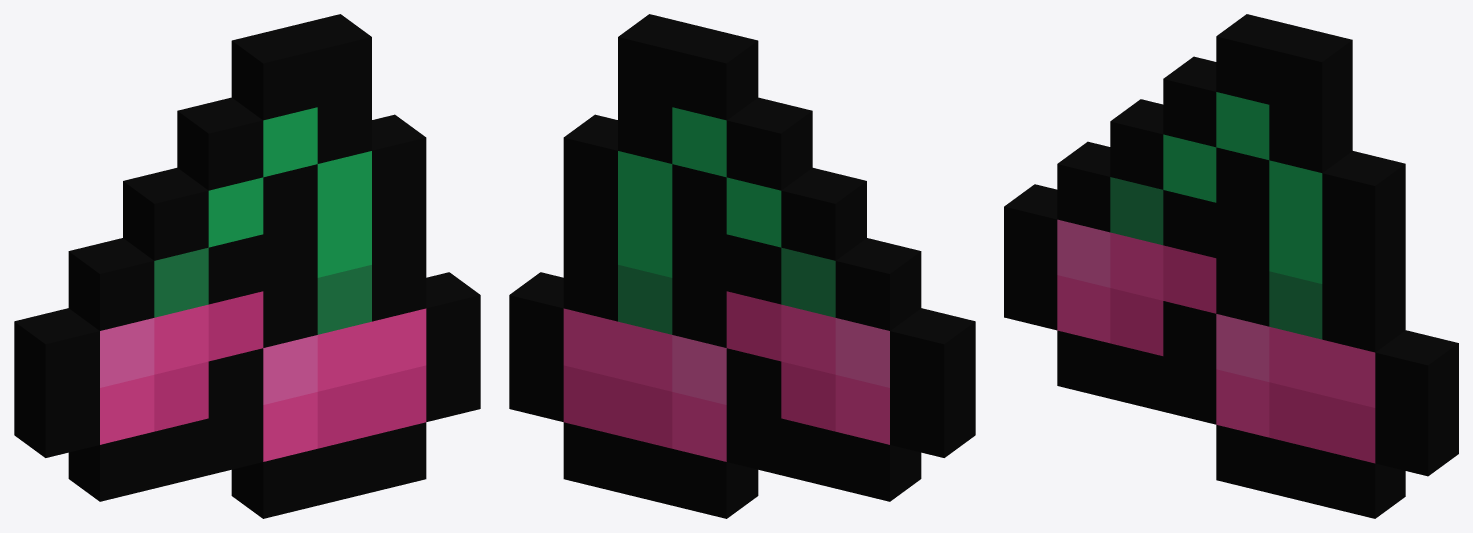
File: Cherry.glb
The picture shows the model from 3 angles, left to right: view 1: azimuth 30°, elevation 25°; view 2: azimuth 150°, elevation 25°; view 3: azimuth 330°, elevation 25°; orthographic projection. The views are drawn at different scales.
Visible parts, largest first — view 1: generated(Clone); view 2: generated(Clone); view 3: generated(Clone).
Part boxes in pixels (left/top/right/bottom): generated(Clone): left=14, top=14, right=480, bottom=518; generated(Clone): left=509, top=14, right=975, bottom=518; generated(Clone): left=1004, top=14, right=1458, bottom=518.
Size of the model in its own units: 8 by 8 by 1.
1 material, 1 textured.
